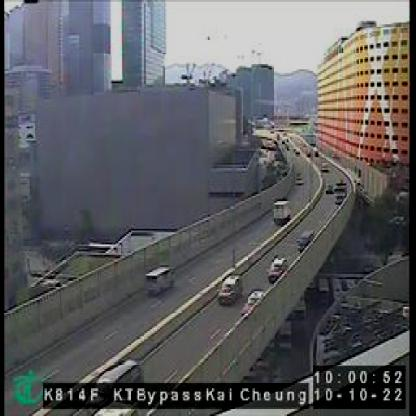Car: (87, 356, 144, 408), (218, 275, 245, 308), (268, 254, 288, 281), (298, 229, 315, 250), (295, 175, 304, 185)
Truck: (144, 264, 177, 298), (271, 196, 291, 222)
